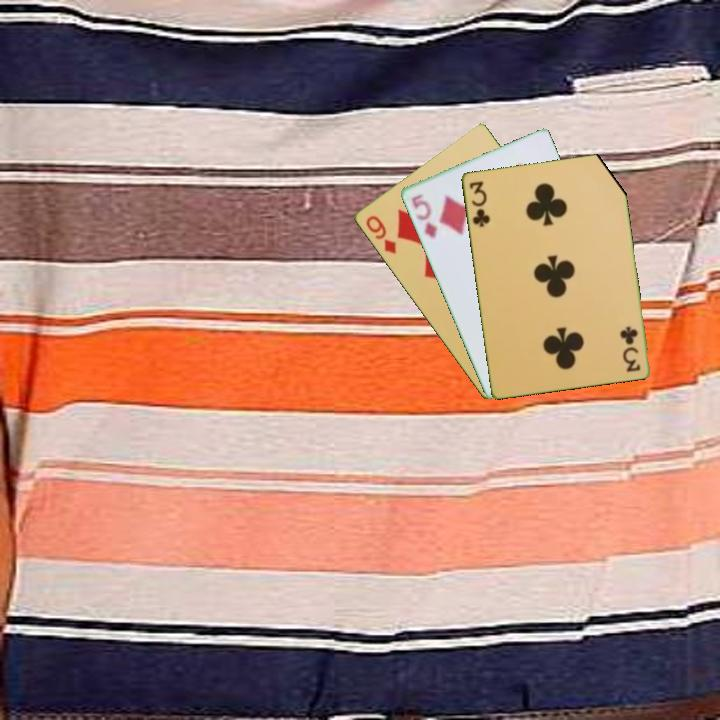3c: (466, 178, 493, 229), (618, 322, 643, 375)
5d: (408, 190, 440, 241)
9d: (362, 212, 399, 257)
